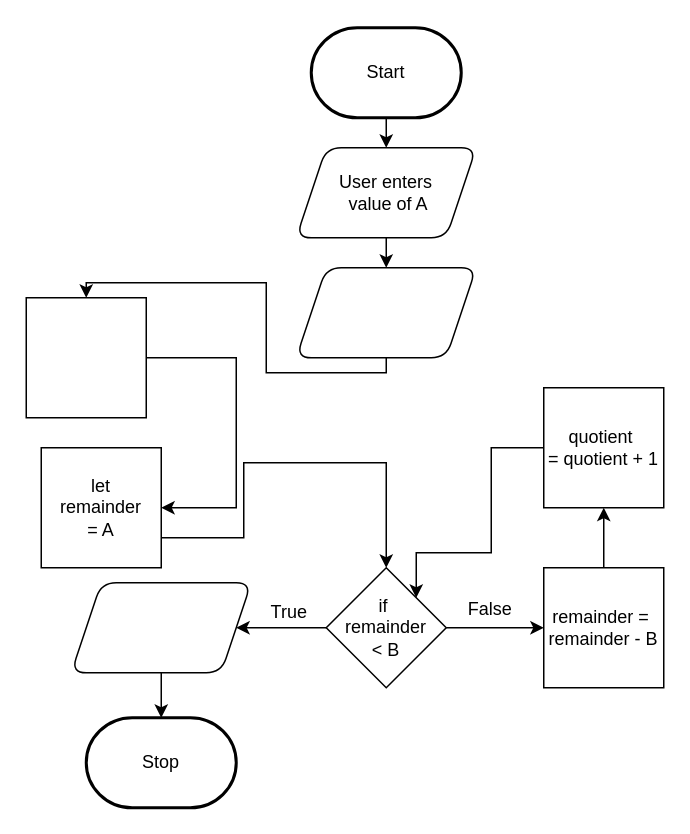
The diagram is 690 pixels wide and 834 high, and some of its shapes have lost their labels. Each missing label, with the centre of its shape:
let quotient = 0: (85,357)
Show: quotient + "remainder " + remainder: (160,627)
User enters value of B: (385,312)
